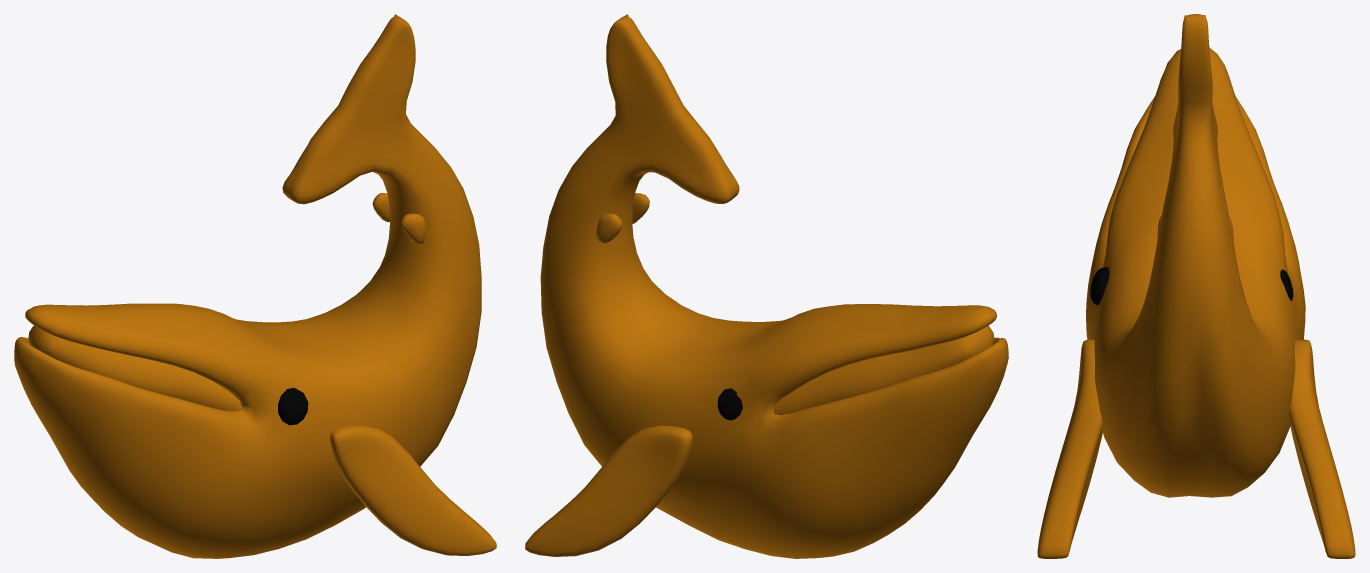
Rendered from whale2 FBX.FBX.
3 views of the same model, side by side, from view 1: azimuth 30°, elevation 25°; view 2: azimuth 150°, elevation 25°; view 3: azimuth 270°, elevation 25° (orthographic). The views are drawn at different scales.
Parts seen in each view (by area): view 1: Group31399, W2_4, W2_2, W2_5, W2_3; view 2: Group31399, W2_4, W2_2, W2_5, W2_3; view 3: Group31399, W2_4, W2_3.
Boxes of the visible parts, <box> form: Group31399: <box>14,14,481,558</box>; W2_4: <box>330,425,496,555</box>; W2_2: <box>28,325,242,410</box>; W2_5: <box>372,193,426,244</box>; W2_3: <box>278,387,308,425</box>; Group31399: <box>540,14,1008,558</box>; W2_4: <box>525,425,692,556</box>; W2_2: <box>773,325,994,415</box>; W2_5: <box>596,193,649,244</box>; W2_3: <box>717,388,742,420</box>; Group31399: <box>1086,14,1305,497</box>; W2_4: <box>1037,339,1355,558</box>; W2_3: <box>1090,267,1293,305</box>.
Bounding box in the file's own units: 32.72 × 33.59 × 18.16.
